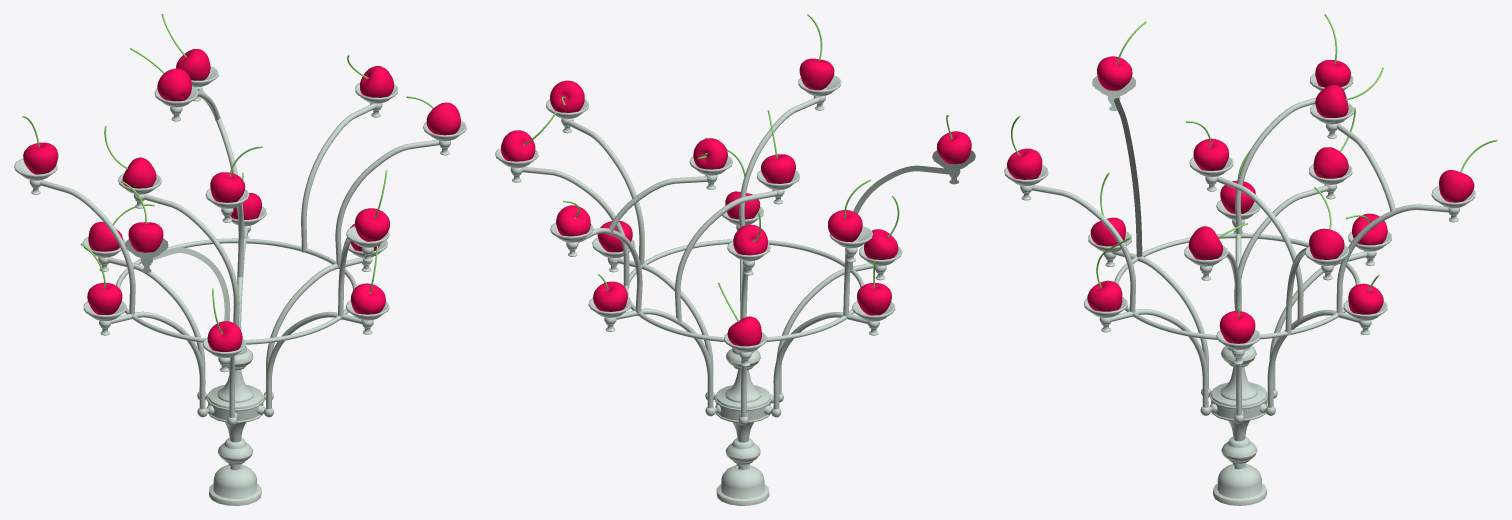
Rendered from lamp_0730.glb.
3 renders of one model, left to right at view 1: azimuth 30°, elevation 25°; view 2: azimuth 150°, elevation 25°; view 3: azimuth 270°, elevation 25°, orthographic. The views are drawn at different scales.
Parts seen in each view (by area): view 1: SAN-ZW-2-OBJ.084, SAN-ZW-2-OBJ.020, SAN-ZW-2-OBJ.639, SAN-ZW-2-OBJ.640, SAN-ZW-2-OBJ.637, SAN-ZW-2-OBJ.002, SAN-ZW-2-OBJ.647, SAN-ZW-2-OBJ.679, SAN-ZW-2-OBJ.019, SAN-ZW-2-OBJ.630, SAN-ZW-2-OBJ.653, SAN-ZW-2-OBJ.657 (+14 smaller); view 2: SAN-ZW-2-OBJ.084, SAN-ZW-2-OBJ.020, SAN-ZW-2-OBJ.665, SAN-ZW-2-OBJ.002, SAN-ZW-2-OBJ.639, SAN-ZW-2-OBJ.680, SAN-ZW-2-OBJ.624, SAN-ZW-2-OBJ.019, SAN-ZW-2-OBJ.653, SAN-ZW-2-OBJ.649, SAN-ZW-2-OBJ.630, SAN-ZW-2-OBJ.679 (+18 smaller); view 3: SAN-ZW-2-OBJ.084, SAN-ZW-2-OBJ.020, SAN-ZW-2-OBJ.680, SAN-ZW-2-OBJ.642, SAN-ZW-2-OBJ.665, SAN-ZW-2-OBJ.640, SAN-ZW-2-OBJ.641, SAN-ZW-2-OBJ.649, SAN-ZW-2-OBJ.601, SAN-ZW-2-OBJ.636, SAN-ZW-2-OBJ.651, SAN-ZW-2-OBJ.645 (+19 smaller).
Part boxes in pixels (<box>): SAN-ZW-2-OBJ.084: <box>116,238,356,344</box>; SAN-ZW-2-OBJ.020: <box>209,464,261,505</box>; SAN-ZW-2-OBJ.639: <box>335,140,439,266</box>; SAN-ZW-2-OBJ.640: <box>40,180,135,314</box>; SAN-ZW-2-OBJ.637: <box>144,194,239,326</box>; SAN-ZW-2-OBJ.002: <box>301,103,375,252</box>; SAN-ZW-2-OBJ.647: <box>157,68,191,101</box>; SAN-ZW-2-OBJ.679: <box>355,208,389,241</box>; SAN-ZW-2-OBJ.019: <box>111,311,205,409</box>; SAN-ZW-2-OBJ.630: <box>87,283,122,315</box>; SAN-ZW-2-OBJ.653: <box>426,102,460,135</box>; SAN-ZW-2-OBJ.657: <box>23,142,58,174</box>; SAN-ZW-2-OBJ.084: <box>624,239,864,341</box>; SAN-ZW-2-OBJ.020: <box>716,465,769,505</box>; SAN-ZW-2-OBJ.665: <box>675,191,776,323</box>; SAN-ZW-2-OBJ.002: <box>522,167,629,287</box>; SAN-ZW-2-OBJ.639: <box>566,120,644,264</box>; SAN-ZW-2-OBJ.680: <box>739,97,819,227</box>; SAN-ZW-2-OBJ.624: <box>616,308,713,408</box>; SAN-ZW-2-OBJ.019: <box>773,312,867,409</box>; SAN-ZW-2-OBJ.653: <box>550,80,584,112</box>; SAN-ZW-2-OBJ.649: <box>937,131,971,164</box>; SAN-ZW-2-OBJ.630: <box>857,283,891,315</box>; SAN-ZW-2-OBJ.679: <box>799,58,834,90</box>; SAN-ZW-2-OBJ.084: <box>1114,233,1360,339</box>; SAN-ZW-2-OBJ.020: <box>1213,464,1266,505</box>; SAN-ZW-2-OBJ.680: <box>1032,185,1135,316</box>; SAN-ZW-2-OBJ.642: <box>1336,204,1448,312</box>; SAN-ZW-2-OBJ.665: <box>1216,176,1303,320</box>; SAN-ZW-2-OBJ.640: <box>1235,97,1316,235</box>; SAN-ZW-2-OBJ.641: <box>1114,98,1142,257</box>; SAN-ZW-2-OBJ.649: <box>1097,56,1132,90</box>; SAN-ZW-2-OBJ.601: <box>1112,309,1208,407</box>; SAN-ZW-2-OBJ.636: <box>1219,311,1255,343</box>; SAN-ZW-2-OBJ.651: <box>1193,138,1228,170</box>; SAN-ZW-2-OBJ.645: <box>1439,170,1474,202</box>.
Bounding box in the file's own units: 2.49 × 2.5 × 2.72.
